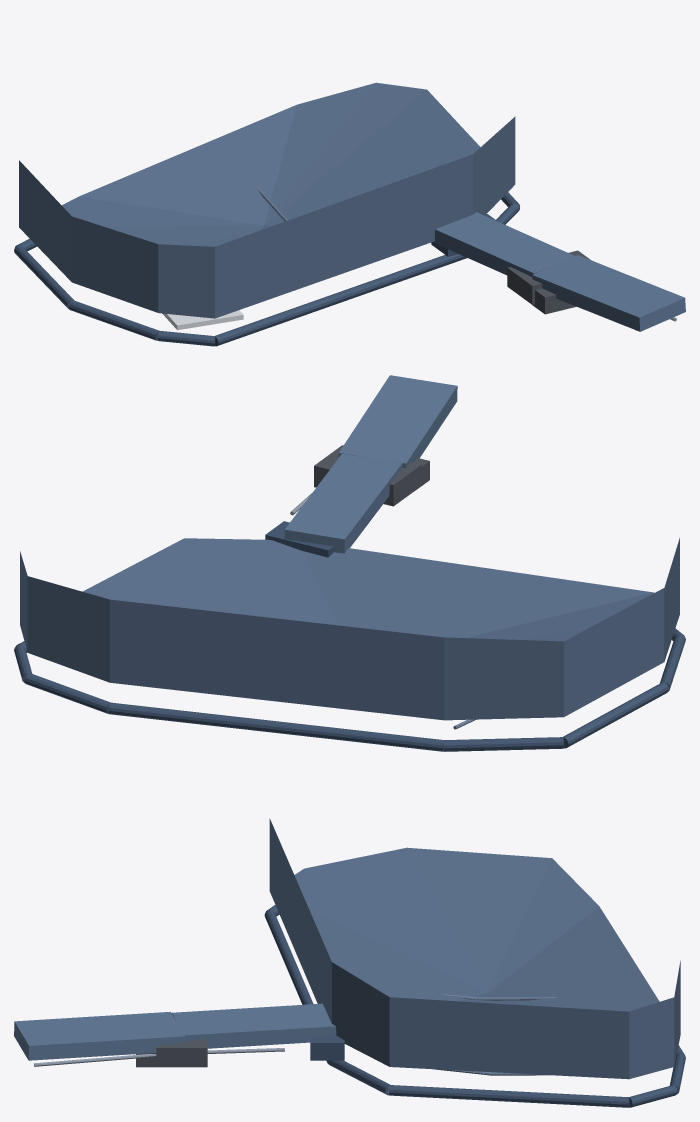
Rendered from brazo.glb.
3 renders of one model, top to bottom at view 1: azimuth 30°, elevation 25°; view 2: azimuth 150°, elevation 25°; view 3: azimuth 270°, elevation 25°, orthographic. The views are drawn at different scales.
Visible parts, largest first — view 1: bolsa_textil_principal, correa_hombro_superior, correa_hombro_inferior, ribete_perimetral_2, ribete_perimetral_0, ribete_perimetral_9, hebilla_central, etiqueta_textil, ribete_perimetral_1, pasador_superior_correa; view 2: bolsa_textil_principal, correa_hombro_superior, correa_hombro_inferior, ribete_perimetral_7, ribete_perimetral_8, ribete_perimetral_9, hebilla_central, ribete_perimetral_6, anclaje_correa_bolsa, ribete_perimetral_0; view 3: bolsa_textil_principal, correa_hombro_superior, correa_hombro_inferior, ribete_perimetral_4, hebilla_central, ribete_perimetral_2, anclaje_correa_bolsa, ribete_perimetral_3, ribete_perimetral_5, costura_correa_0.105_1.
Part boxes in pixels (left/top/right/bottom): bolsa_textil_principal: left=19, top=82, right=515, bottom=318; correa_hombro_superior: left=532, top=255, right=685, bottom=331; correa_hombro_inferior: left=432, top=212, right=574, bottom=276; ribete_perimetral_2: left=214, top=254, right=466, bottom=346; ribete_perimetral_0: left=68, top=300, right=159, bottom=340; ribete_perimetral_9: left=14, top=245, right=74, bottom=309; hebilla_central: left=507, top=250, right=590, bottom=304; etiqueta_textil: left=162, top=310, right=243, bottom=330; ribete_perimetral_1: left=157, top=331, right=215, bottom=346; pasador_superior_correa: left=532, top=288, right=576, bottom=314; bolsa_textil_principal: left=20, top=537, right=679, bottom=720; correa_hombro_superior: left=338, top=375, right=457, bottom=468; correa_hombro_inferior: left=284, top=454, right=402, bottom=553; ribete_perimetral_7: left=108, top=702, right=444, bottom=751; ribete_perimetral_8: left=443, top=737, right=564, bottom=751; ribete_perimetral_9: left=562, top=682, right=668, bottom=748; hebilla_central: left=314, top=445, right=421, bottom=506; ribete_perimetral_6: left=24, top=673, right=110, bottom=713; anclaje_correa_bolsa: left=265, top=521, right=333, bottom=557; ribete_perimetral_0: left=660, top=634, right=685, bottom=690; bolsa_textil_principal: left=269, top=818, right=680, bottom=1079; correa_hombro_superior: left=14, top=1012, right=185, bottom=1060; correa_hombro_inferior: left=172, top=1003, right=336, bottom=1048; ribete_perimetral_4: left=389, top=1085, right=629, bottom=1107; hebilla_central: left=156, top=1012, right=207, bottom=1067; ribete_perimetral_2: left=264, top=910, right=327, bottom=1063; anclaje_correa_bolsa: left=310, top=1035, right=344, bottom=1060; ribete_perimetral_3: left=327, top=1060, right=390, bottom=1095; ribete_perimetral_5: left=629, top=1085, right=677, bottom=1107; costura_correa_0.105_1: left=34, top=1054, right=156, bottom=1066.
Size of the model in its own units: 2.61 by 0.605 by 3.14.
